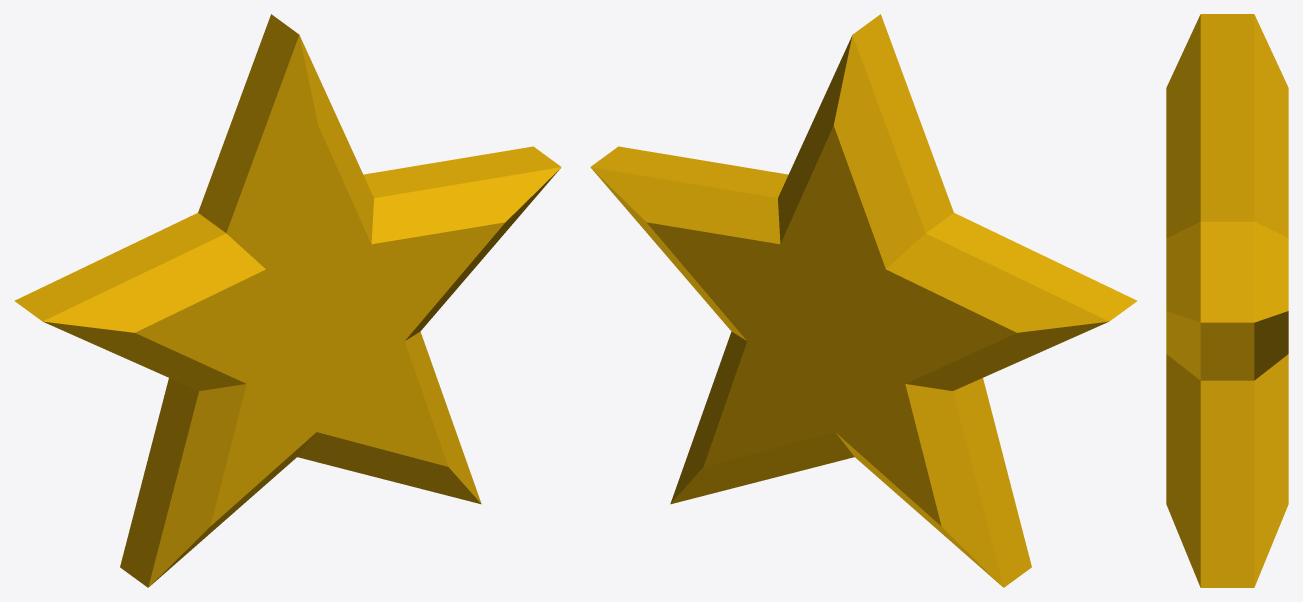
Rendered from Star.fbx.
3 views of the same model, side by side, from view 1: azimuth 30°, elevation 25°; view 2: azimuth 150°, elevation 25°; view 3: azimuth 270°, elevation 25° (orthographic). The views are drawn at different scales.
Parts seen in each view (by area): view 1: Gold_Star; view 2: Gold_Star; view 3: Gold_Star.
Part boxes in pixels (x1,y1,x2,y2): Gold_Star: [14, 14, 561, 587]; Gold_Star: [590, 14, 1137, 587]; Gold_Star: [1166, 14, 1288, 587].
Size of the model in its own units: 58.35 by 55.45 by 12.54.
